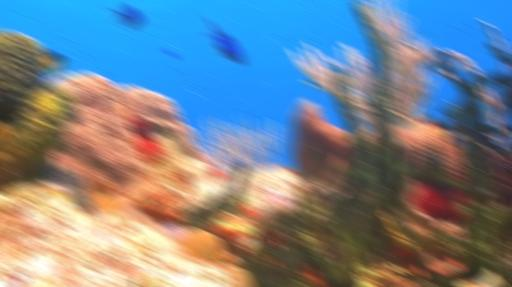Fish: (202, 17, 243, 62), (107, 6, 142, 28), (42, 50, 65, 73), (162, 50, 177, 57), (305, 80, 318, 88)
